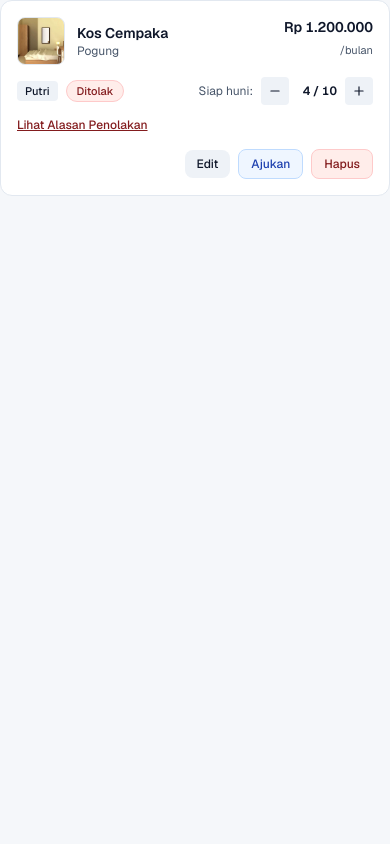
Test: Owner and Admin dashboard UI & hook flows › OwnerKosTable handles empty state, room adjustments, verification resubmit, and delete confirmation
The width and height of the screenshot is (390, 844).
Later steps or results of the test are not shown.
Click the button named "Tambah kamar siap huni untuk Kos Cempaka".
click(359, 91)  # box [345,77,373,105]
Click the button "Ajukan".
click(271, 164)  # box [238,149,303,179]
Click the button "Hapus".
click(342, 164)  # box [311,149,373,179]
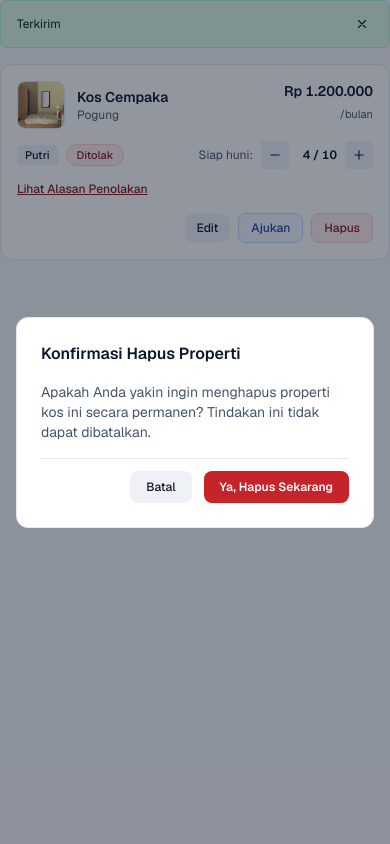
Result: the heading "Konfirmasi Hapus Properti" is shown at [41,342,241,364]
